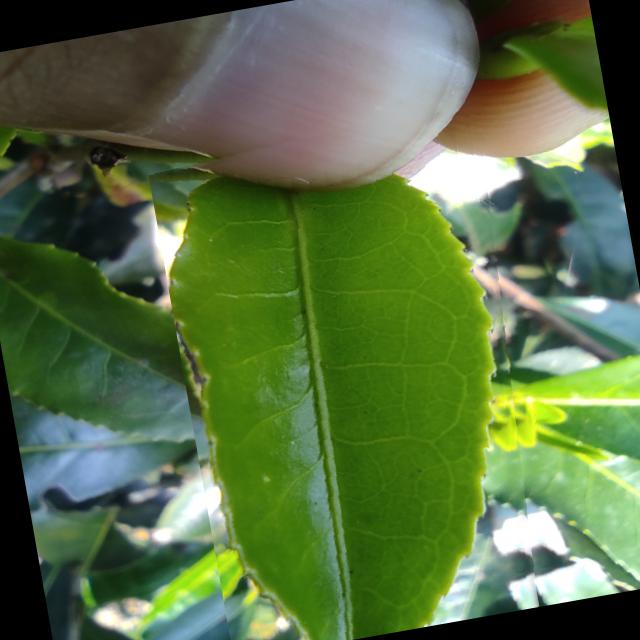Category C 4-7 days: (143, 96, 563, 640)
